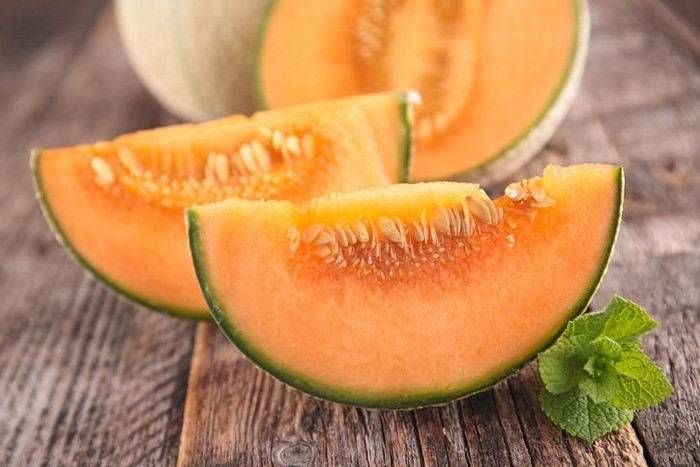Melon: (160, 179, 633, 402), (73, 65, 438, 280)
